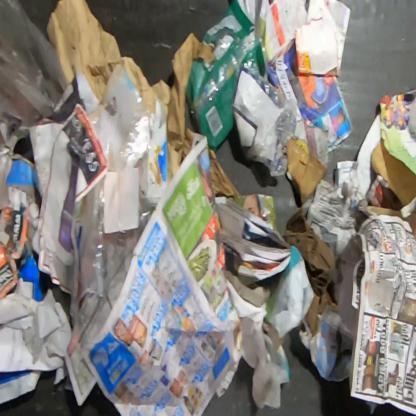cardboard: (282, 206, 340, 337), (371, 137, 415, 208), (287, 136, 328, 207), (5, 153, 42, 213), (18, 253, 60, 302), (0, 368, 43, 406)
soft_plastic: (77, 66, 162, 345), (185, 0, 269, 154), (0, 0, 67, 140), (232, 59, 300, 178)
